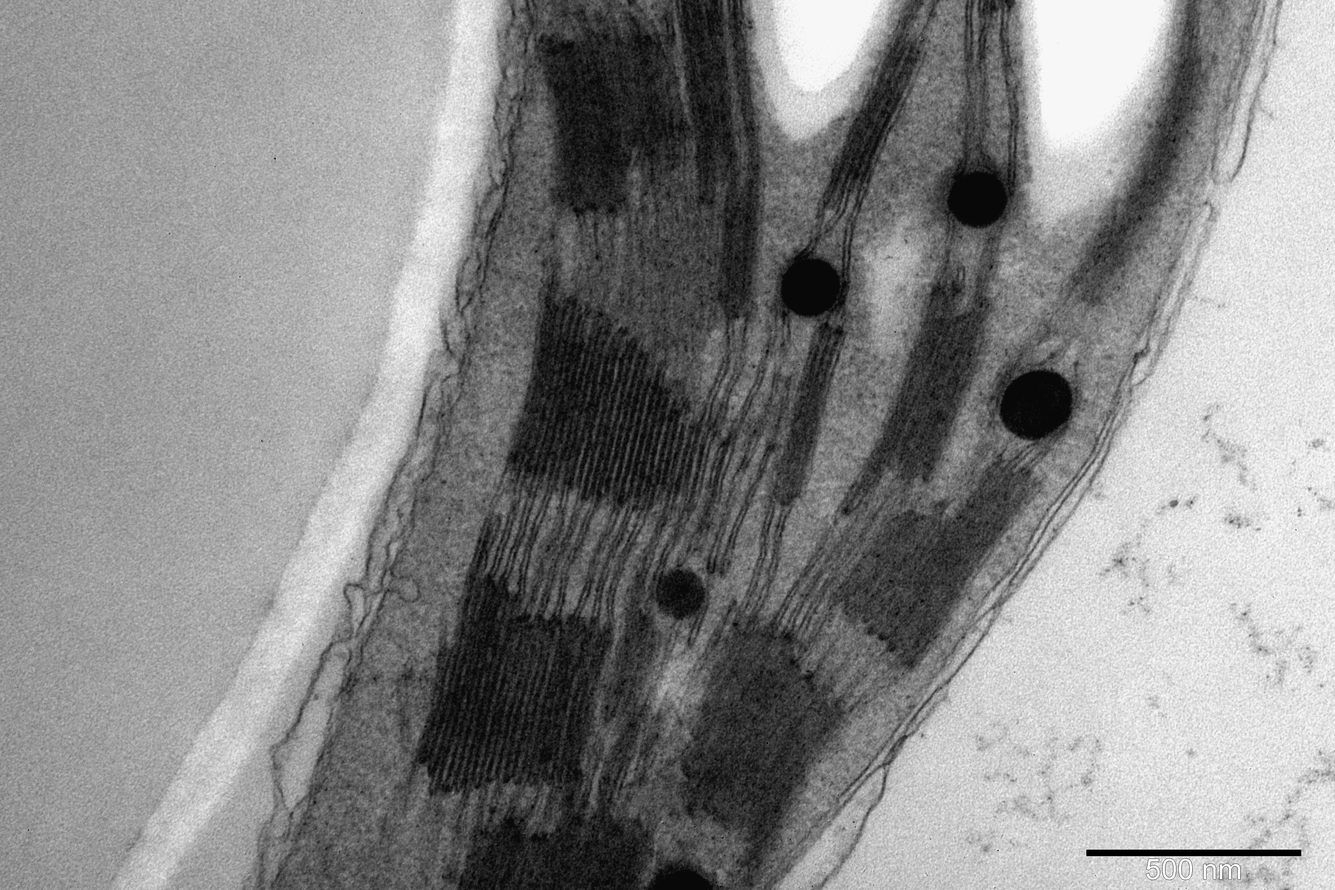granum: (502, 289, 717, 513), (408, 569, 622, 794), (840, 456, 1045, 670), (677, 626, 847, 880), (845, 259, 994, 507), (1072, 53, 1206, 306), (535, 18, 685, 215), (817, 28, 933, 217), (595, 582, 664, 807), (456, 815, 650, 890), (769, 323, 847, 507), (678, 6, 744, 179), (713, 188, 765, 320)
